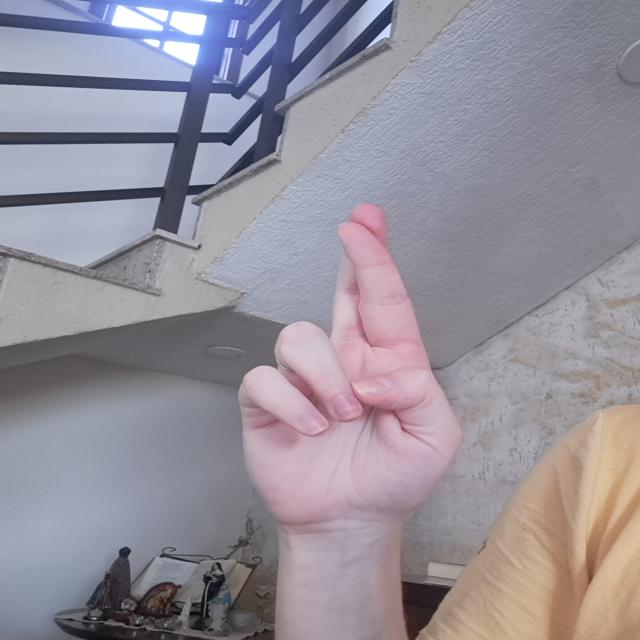R: (222, 194, 473, 533)
